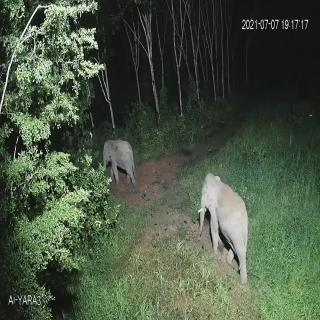Elephant: (190, 167, 254, 288), (99, 126, 141, 192)
